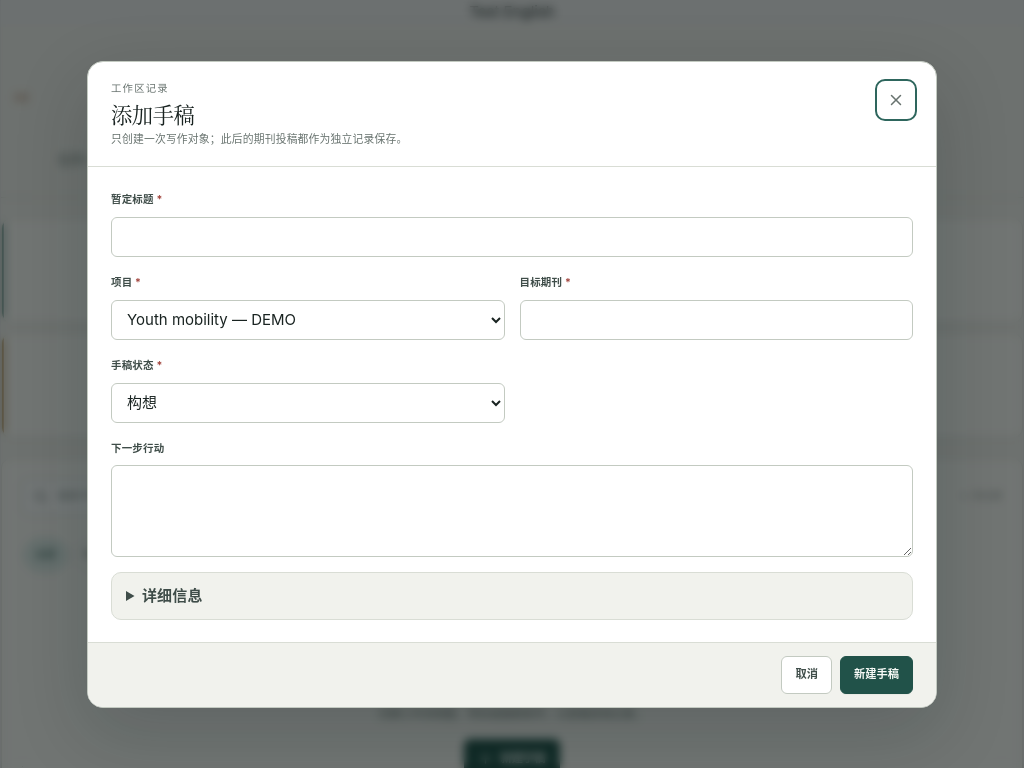
Scenario: PublishingPage integrated workflow › honors publishing quick-add events for both independent record types
Click the button "取消".
click(807, 674)  # box [782, 655, 832, 693]
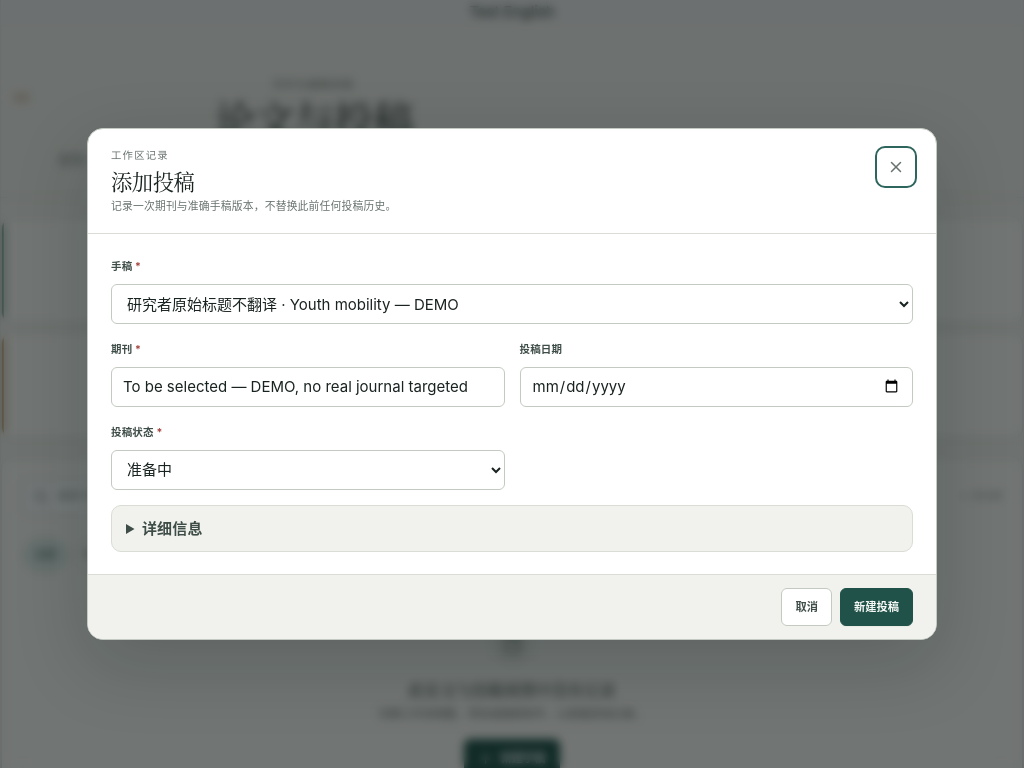
Result: the dialog "添加投稿" is shown at [87, 128, 937, 640]
